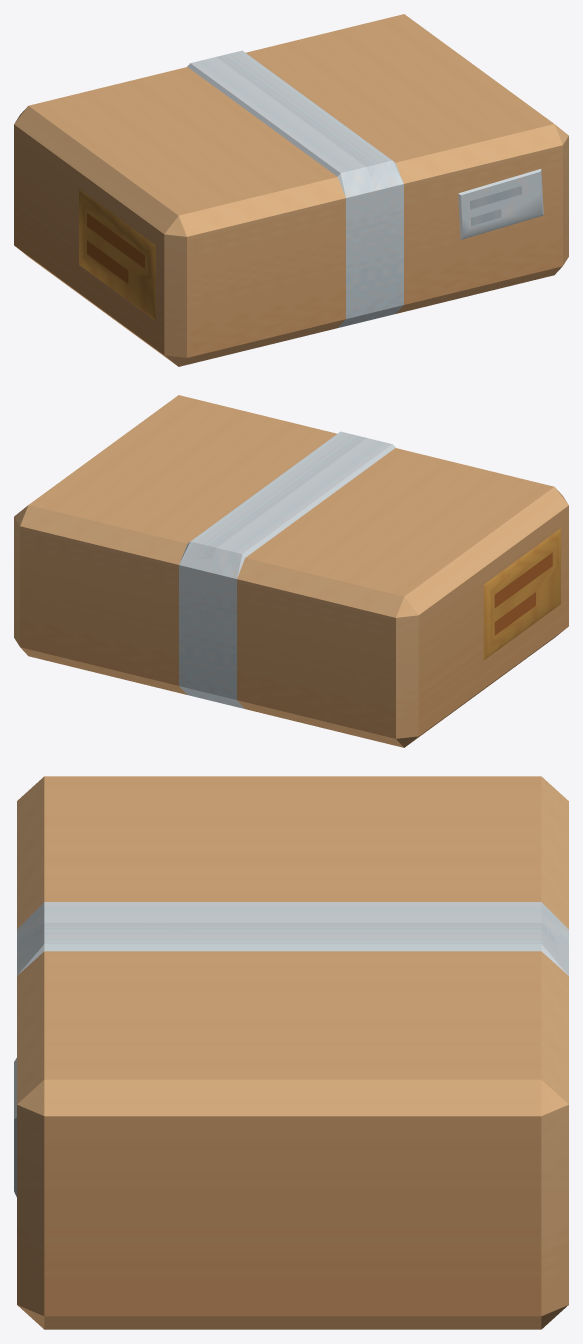
File: containers-box-medium.glb
3 views of the same model, one above another, from view 1: azimuth 30°, elevation 25°; view 2: azimuth 150°, elevation 25°; view 3: azimuth 270°, elevation 25° (orthographic). The views are drawn at different scales.
Visible parts, largest first — view 1: Containers_Box_Medium; view 2: Containers_Box_Medium; view 3: Containers_Box_Medium.
Part boxes in pixels (x1=…): Containers_Box_Medium: x1=14, y1=14, x2=568, y2=366; Containers_Box_Medium: x1=14, y1=395, x2=568, y2=747; Containers_Box_Medium: x1=14, y1=776, x2=568, y2=1329.
Bounding box in the file's own units: 1.05 × 0.3825 × 0.7539.
1 material, 1 textured.
